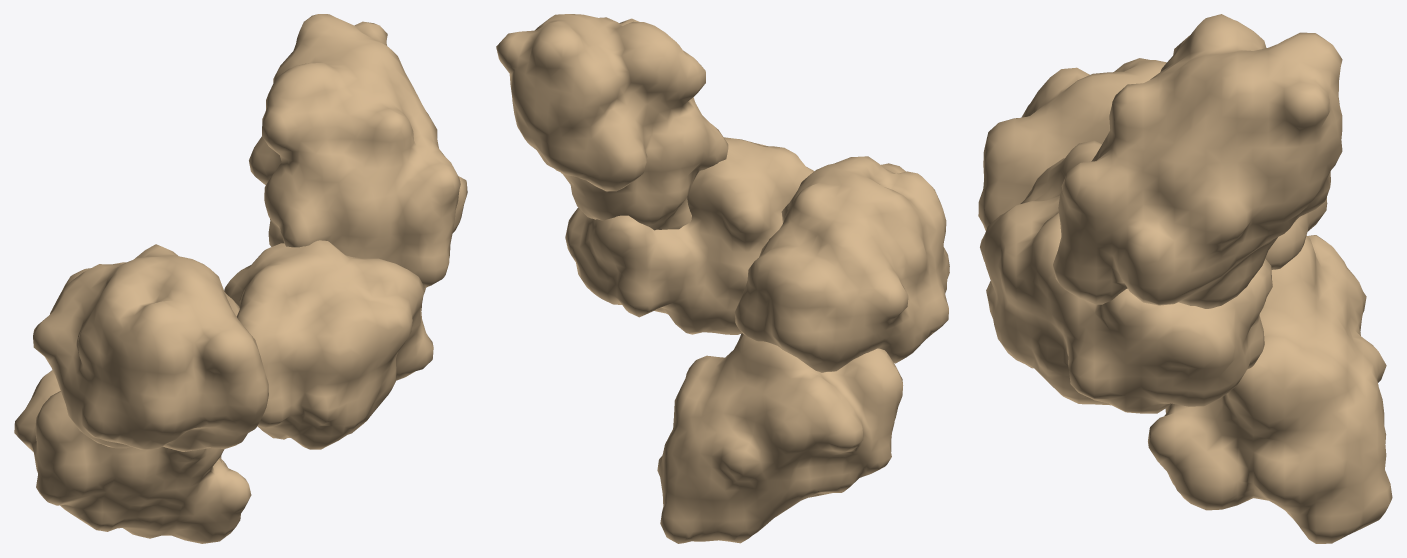
The model's file is 1mel_coarse.glb.
3 views of the same model, side by side, from view 1: azimuth 30°, elevation 25°; view 2: azimuth 150°, elevation 25°; view 3: azimuth 270°, elevation 25° (orthographic). The views are drawn at different scales.
Parts seen in each view (by area): view 1: 1MEL.pdb_B Gaussian surface, 1MEL.pdb_L Gaussian surface, 1MEL.pdb_M Gaussian surface, 1MEL.pdb_A Gaussian surface; view 2: 1MEL.pdb_A Gaussian surface, 1MEL.pdb_B Gaussian surface, 1MEL.pdb_L Gaussian surface, 1MEL.pdb_M Gaussian surface; view 3: 1MEL.pdb_B Gaussian surface, 1MEL.pdb_A Gaussian surface, 1MEL.pdb_M Gaussian surface, 1MEL.pdb_L Gaussian surface.
Boxes of the visible parts, box(x1,y1,x2,y2) form: 1MEL.pdb_B Gaussian surface: box(249, 14, 467, 288); 1MEL.pdb_L Gaussian surface: box(33, 244, 268, 451); 1MEL.pdb_M Gaussian surface: box(224, 240, 433, 449); 1MEL.pdb_A Gaussian surface: box(14, 370, 251, 543); 1MEL.pdb_A Gaussian surface: box(657, 333, 903, 543); 1MEL.pdb_B Gaussian surface: box(496, 14, 728, 230); 1MEL.pdb_L Gaussian surface: box(734, 156, 949, 372); 1MEL.pdb_M Gaussian surface: box(565, 137, 814, 334); 1MEL.pdb_B Gaussian surface: box(1053, 14, 1342, 308); 1MEL.pdb_A Gaussian surface: box(1148, 235, 1392, 543); 1MEL.pdb_M Gaussian surface: box(980, 140, 1272, 413); 1MEL.pdb_L Gaussian surface: box(978, 58, 1327, 269).
Size of the model in its own units: 79.31 by 91.21 by 58.18.
